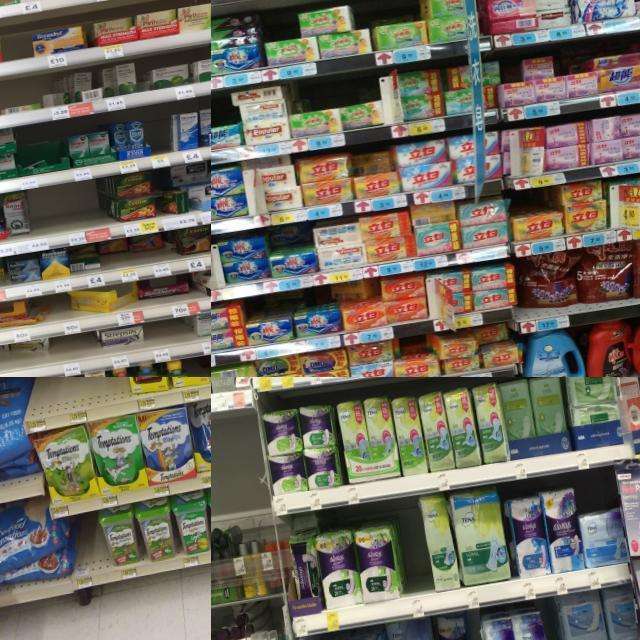Imprecise: (336, 276, 382, 330), (268, 222, 316, 272), (356, 147, 402, 195), (140, 274, 200, 308), (72, 283, 138, 313), (2, 190, 30, 243), (131, 231, 168, 265), (96, 238, 130, 270)
